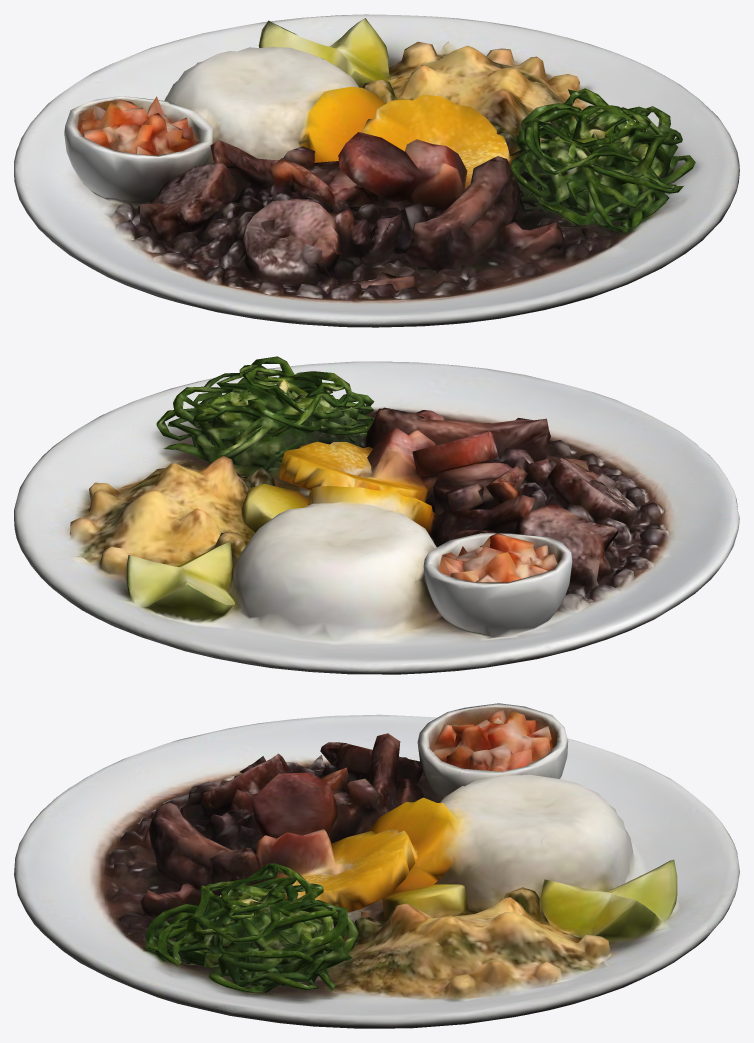
File: feijoada.glb
3 views of the same model, one above another, from view 1: azimuth 30°, elevation 25°; view 2: azimuth 150°, elevation 25°; view 3: azimuth 270°, elevation 25° (orthographic).
Parts seen in each view (by area): view 1: tripo_node_d982833d-9659-429b-8889-bddaa531932f; view 2: tripo_node_d982833d-9659-429b-8889-bddaa531932f; view 3: tripo_node_d982833d-9659-429b-8889-bddaa531932f.
Boxes of the visible parts, x1,y1,x2,y2 form: tripo_node_d982833d-9659-429b-8889-bddaa531932f: (14,14,739,327); tripo_node_d982833d-9659-429b-8889-bddaa531932f: (14,356,739,674); tripo_node_d982833d-9659-429b-8889-bddaa531932f: (14,703,739,1028).
Size of the model in its own units: 1 by 0.147 by 0.9999.
Materials: 1 (1 with a texture image).
